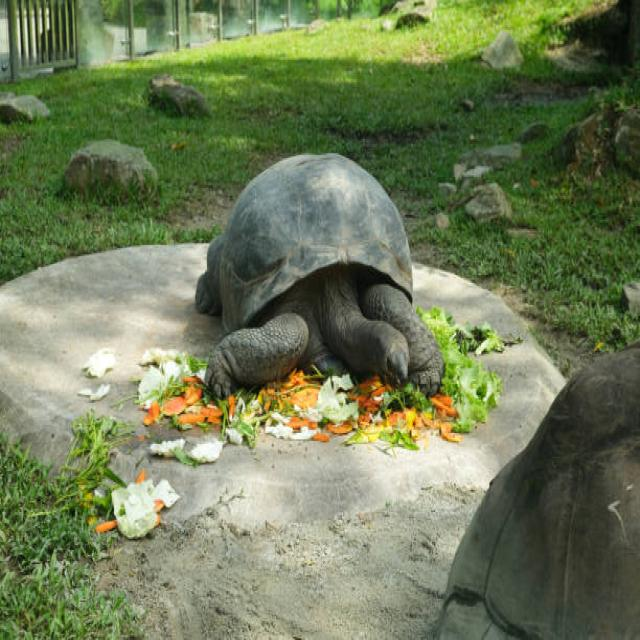tortoise: (196, 146, 438, 302), (196, 311, 317, 423), (372, 270, 449, 408), (330, 288, 413, 412), (187, 262, 224, 312)
